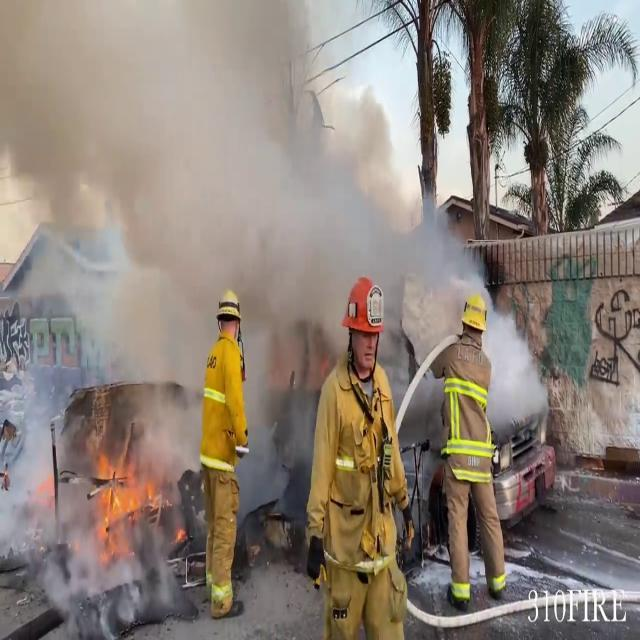Fire: (88, 428, 164, 558)
Smoke: (1, 0, 536, 450)
